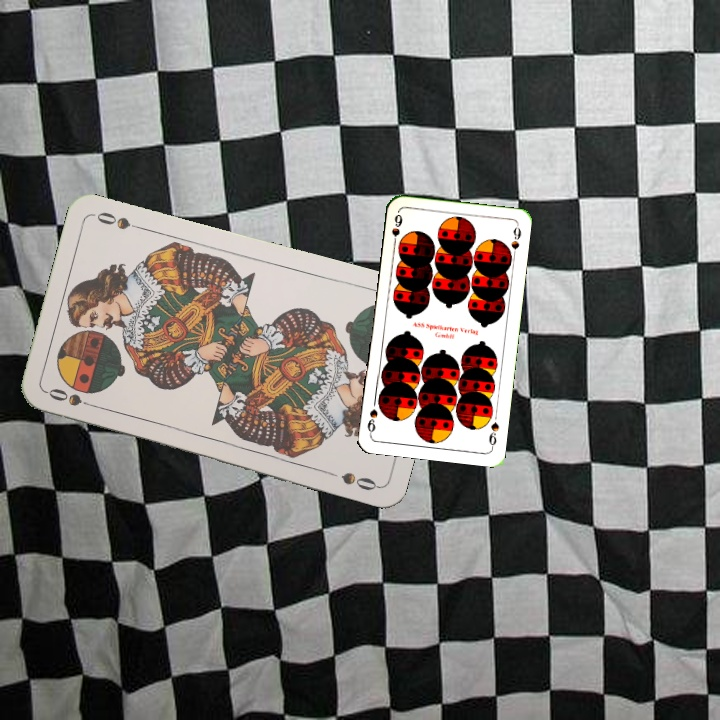S9: (388, 210, 405, 250), (485, 418, 501, 451)
SO: (44, 384, 102, 411)
